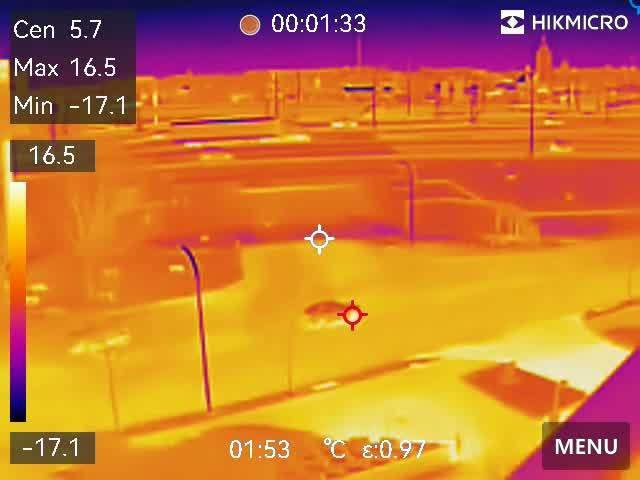heavyTruck: (164, 116, 314, 148)
smallCar: (302, 299, 364, 328)
vehicle: (60, 326, 136, 351), (195, 148, 234, 163), (548, 139, 575, 158), (329, 117, 360, 131), (539, 116, 569, 129)
